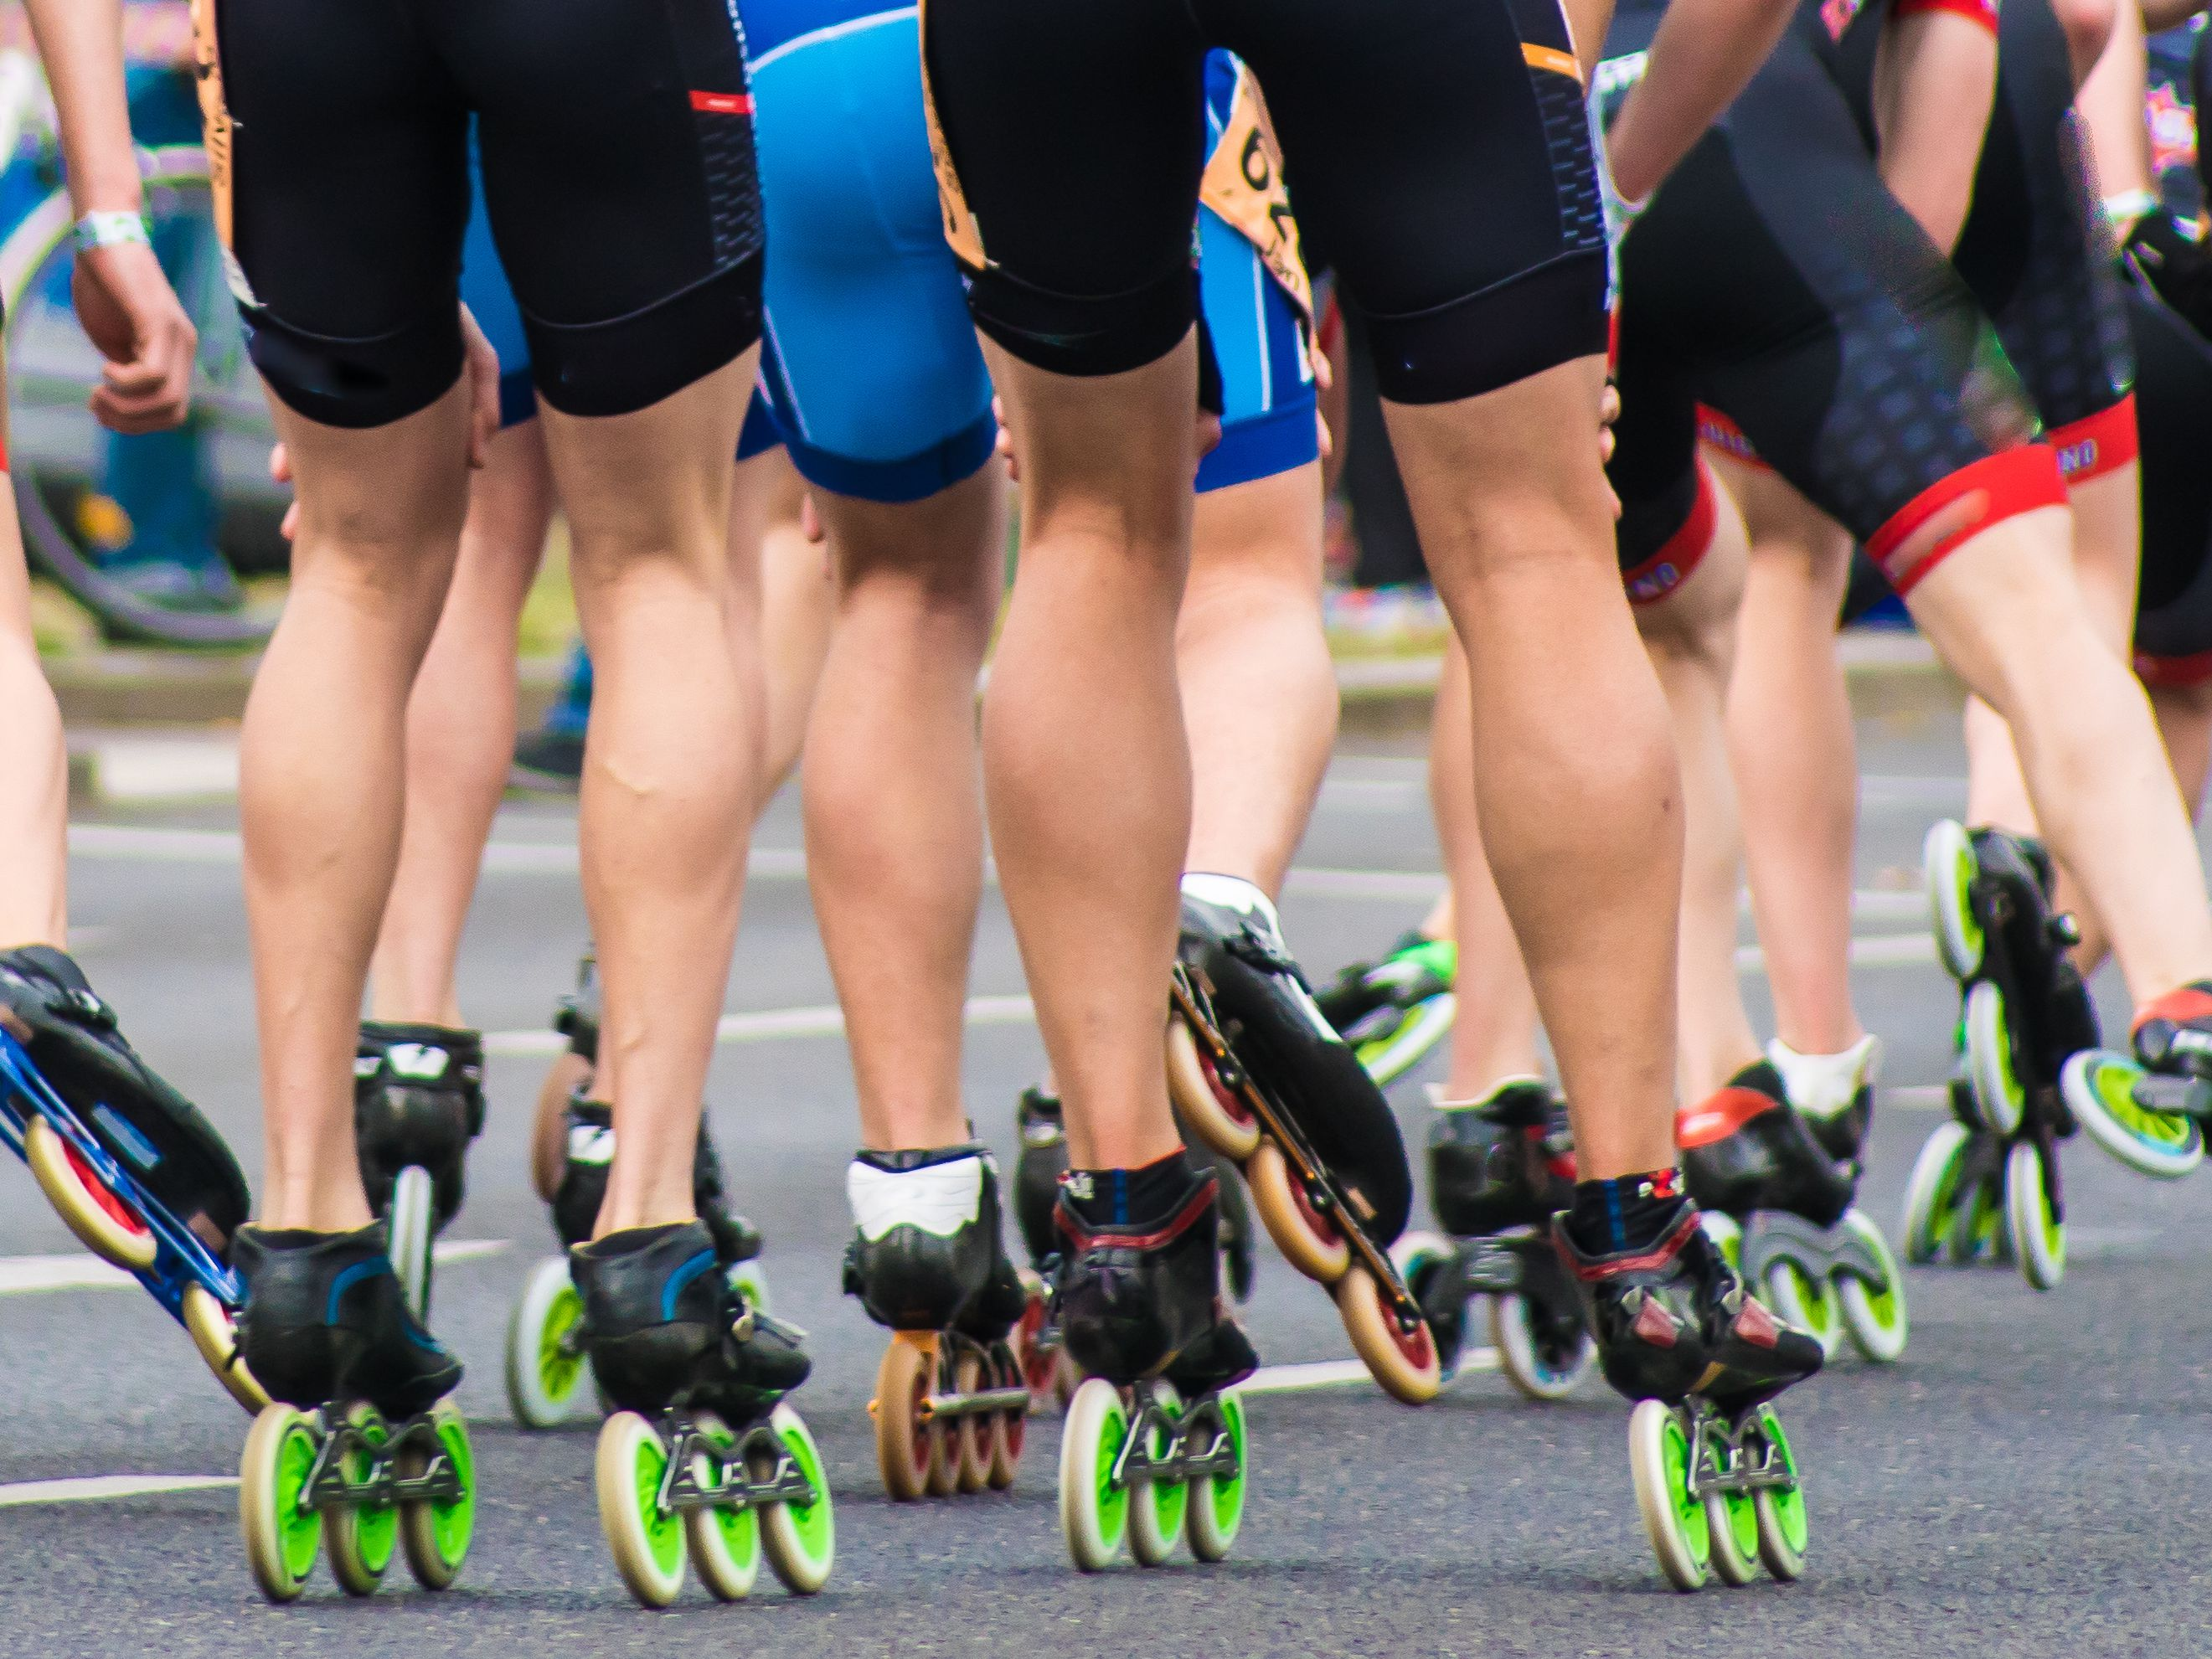roller_blade: (1539, 1183, 1825, 1582), (223, 1225, 483, 1581), (570, 1243, 833, 1591), (0, 960, 234, 1351), (1060, 1154, 1246, 1558), (1170, 863, 1419, 1161), (554, 1091, 791, 1382), (845, 1143, 1035, 1495), (1942, 819, 2071, 1269), (1729, 1082, 1903, 1316), (1429, 1084, 1546, 1384), (364, 993, 490, 1227), (2093, 1011, 2212, 1152)
